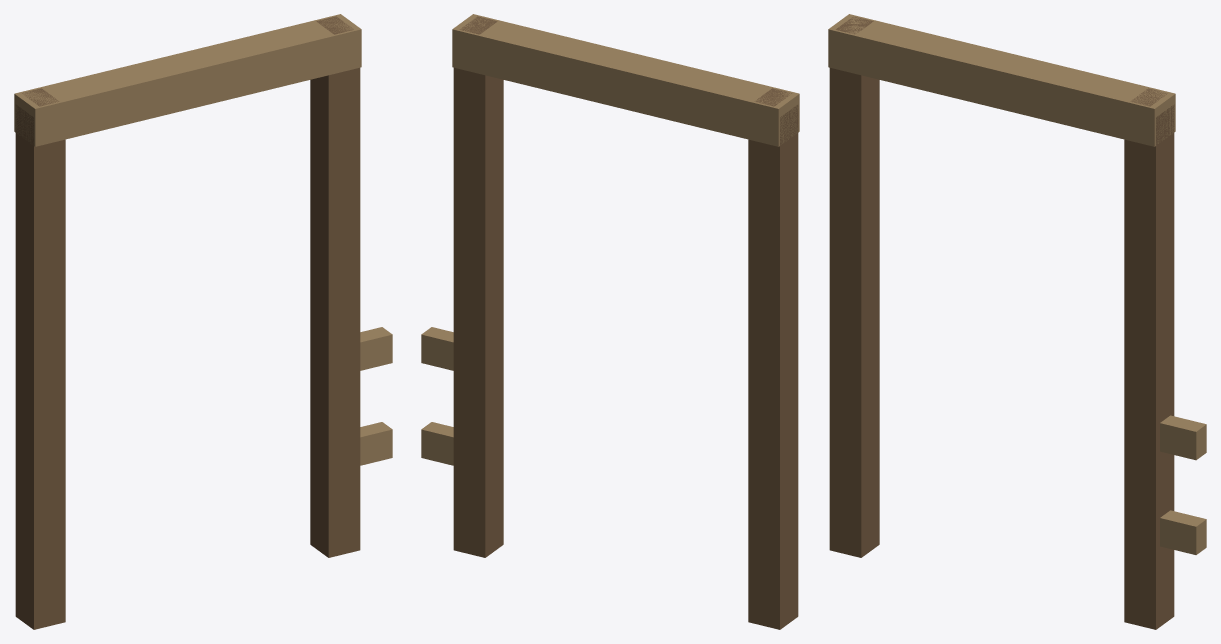
Rendered from TW_WOOD_GATE_FRAME_A_LOD0.glb.
3 renders of one model, left to right at view 1: azimuth 30°, elevation 25°; view 2: azimuth 150°, elevation 25°; view 3: azimuth 330°, elevation 25°, orthographic.
Parts seen in each view (by area): view 1: TW_WOOD_GATE_FRAME_A_LOD0; view 2: TW_WOOD_GATE_FRAME_A_LOD0; view 3: TW_WOOD_GATE_FRAME_A_LOD0.
Boxes of the visible parts, x1,y1,x2,y2 form: TW_WOOD_GATE_FRAME_A_LOD0: (14,14,392,629); TW_WOOD_GATE_FRAME_A_LOD0: (421,14,799,629); TW_WOOD_GATE_FRAME_A_LOD0: (828,14,1206,629).
Bounding box in the file's own units: 1.6 × 2.2 × 0.16.
Materials: 1 (1 with a texture image).
